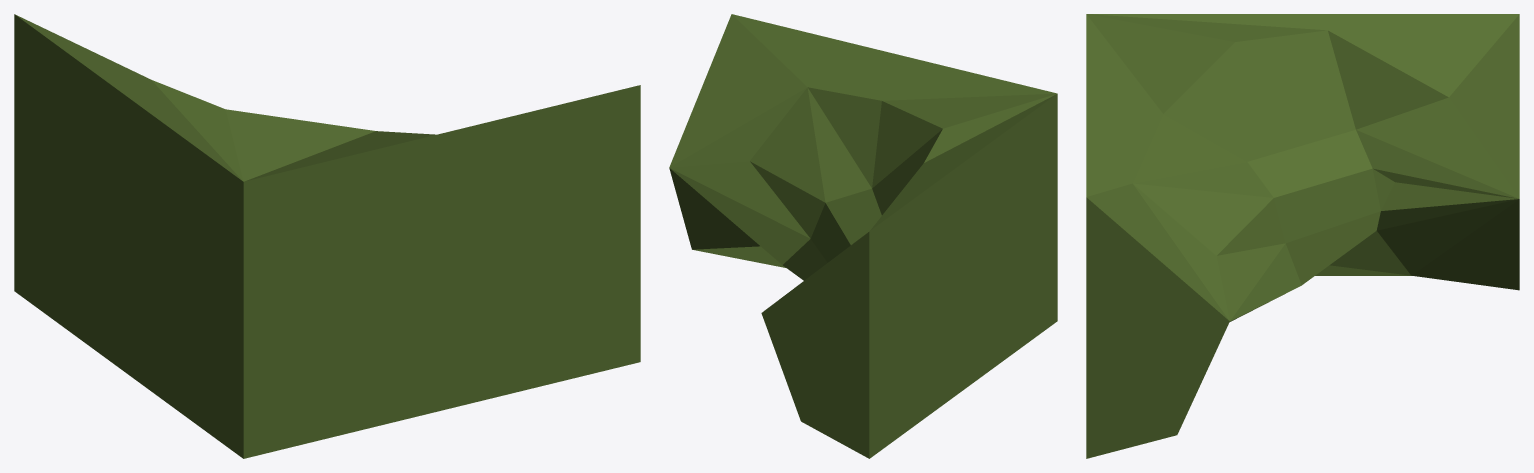
Rendered from LightVegetationEdgeSmallInternalCurve2.fbx.
3 renders of one model, left to right at view 1: azimuth 30°, elevation 25°; view 2: azimuth 150°, elevation 25°; view 3: azimuth 270°, elevation 25°, orthographic. The views are drawn at different scales.
Visible parts, largest first — view 1: LightVegetationEdgeEdgeSmallInternalCurve2; view 2: LightVegetationEdgeEdgeSmallInternalCurve2; view 3: LightVegetationEdgeEdgeSmallInternalCurve2.
Boxes of the visible parts, x1=… form: LightVegetationEdgeEdgeSmallInternalCurve2: x1=14, y1=14, x2=640, y2=458; LightVegetationEdgeEdgeSmallInternalCurve2: x1=669, y1=14, x2=1057, y2=458; LightVegetationEdgeEdgeSmallInternalCurve2: x1=1086, y1=14, x2=1519, y2=458.
Size of the model in its own units: 300 by 200 by 300.
